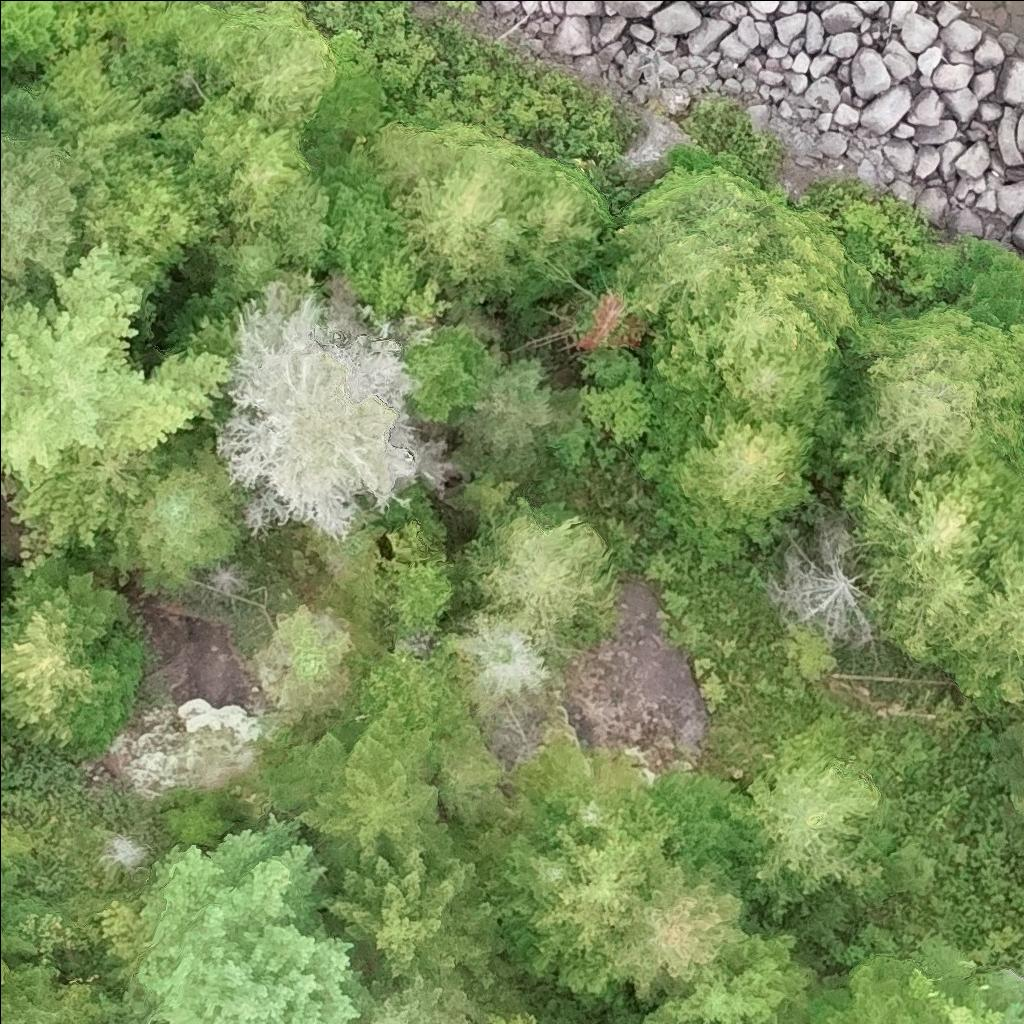crown: (210, 264, 459, 542), (0, 242, 235, 490), (125, 810, 376, 1023), (650, 204, 863, 386), (323, 814, 510, 985), (835, 304, 1023, 472), (526, 805, 679, 998), (109, 399, 253, 593), (606, 162, 785, 318), (729, 751, 888, 920), (392, 135, 547, 307), (269, 702, 442, 849), (836, 448, 1023, 582), (160, 85, 313, 232), (606, 855, 752, 1008), (0, 602, 146, 750), (470, 492, 617, 637), (0, 118, 109, 292), (665, 407, 813, 530), (639, 928, 822, 1023), (933, 531, 1023, 715), (767, 502, 882, 645), (458, 351, 589, 471), (10, 444, 156, 550), (220, 0, 335, 129), (865, 556, 992, 669), (712, 343, 845, 438), (354, 631, 472, 737), (520, 741, 634, 840), (75, 134, 171, 251), (490, 827, 582, 947), (516, 162, 608, 281), (12, 555, 126, 651), (405, 321, 511, 423), (135, 173, 222, 282), (800, 961, 944, 1023), (351, 952, 471, 1023), (123, 145, 196, 255), (374, 120, 466, 202), (267, 601, 351, 684), (903, 966, 1012, 1023), (211, 225, 291, 301), (393, 551, 455, 633), (0, 0, 66, 69), (576, 290, 652, 347), (994, 714, 1023, 827), (0, 923, 33, 988), (0, 983, 31, 1023), (748, 1011, 783, 1023), (783, 1017, 803, 1023), (689, 1021, 696, 1023), (1022, 700, 1023, 702), (0, 1013, 0, 1019)
